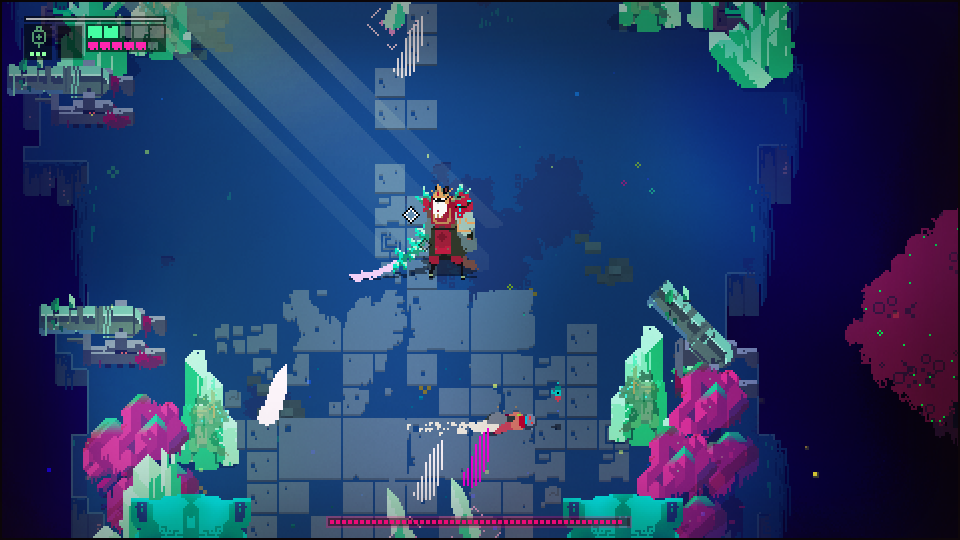hanged_crys: (407, 436, 447, 503), (390, 12, 427, 79), (444, 481, 484, 540), (257, 361, 289, 425), (383, 492, 419, 540), (458, 432, 492, 480)
hanged_man: (351, 176, 480, 278)
player: (478, 404, 538, 436)
